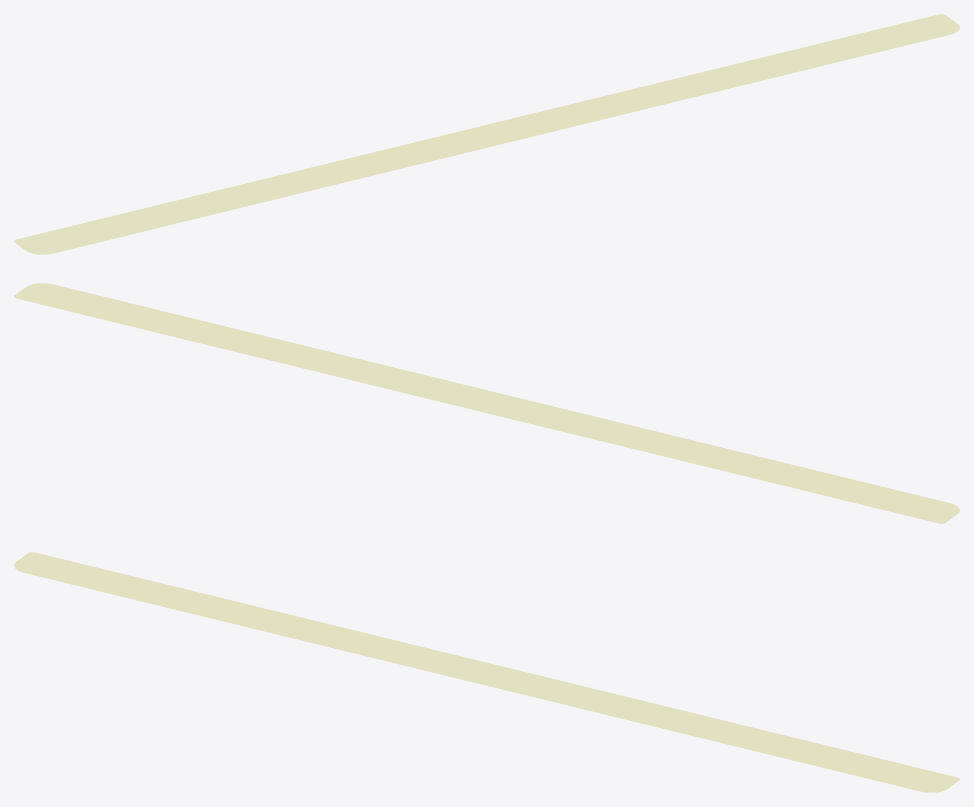
Rendered from original-81.obj.
3 views of the same model, one above another, from view 1: azimuth 30°, elevation 25°; view 2: azimuth 150°, elevation 25°; view 3: azimuth 330°, elevation 25° (orthographic).
Visible parts, largest first — view 1: mesh81/mesh81-geometry#mesh81-geometry; view 2: mesh81/mesh81-geometry#mesh81-geometry; view 3: mesh81/mesh81-geometry#mesh81-geometry.
Part boxes in pixels (box(x1,y1,x2,y2)): mesh81/mesh81-geometry#mesh81-geometry: box(14, 14, 959, 254); mesh81/mesh81-geometry#mesh81-geometry: box(14, 283, 959, 523); mesh81/mesh81-geometry#mesh81-geometry: box(14, 552, 959, 792).
Bounding box in the file's own units: 0.9472 × 0 × 0.0418.
